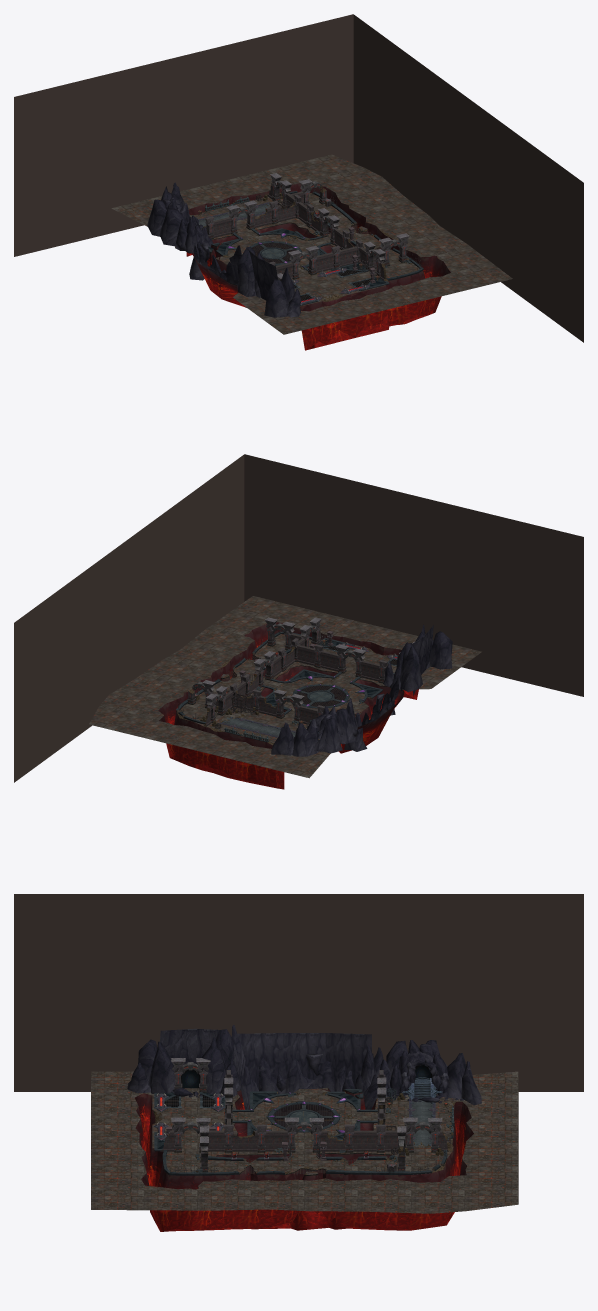
The model's file is Scene_diyu_3&1.FBX.
3 views of the same model, one above another, from view 1: azimuth 30°, elevation 25°; view 2: azimuth 150°, elevation 25°; view 3: azimuth 270°, elevation 25° (orthographic). The views are drawn at different scales.
Visible parts, largest first — view 1: Scene_diyu_c1, Scene_diyu_a1, Scene_diyu_b1; view 2: Scene_diyu_c1, Scene_diyu_a1, Scene_diyu_b1; view 3: Scene_diyu_c1, Scene_diyu_b1, Scene_diyu_a1.
Part boxes in pixels (x1,y1,x2,y2): Scene_diyu_c1: (14,14,583,342); Scene_diyu_a1: (186,173,450,350); Scene_diyu_b1: (147,182,423,317); Scene_diyu_c1: (14,454,583,782); Scene_diyu_a1: (158,617,418,789); Scene_diyu_b1: (176,624,452,756); Scene_diyu_c1: (14,894,583,1213); Scene_diyu_b1: (127,1025,481,1181); Scene_diyu_a1: (135,1058,473,1231).
Size of the model in its own units: 7405 by 3337 by 8708.
